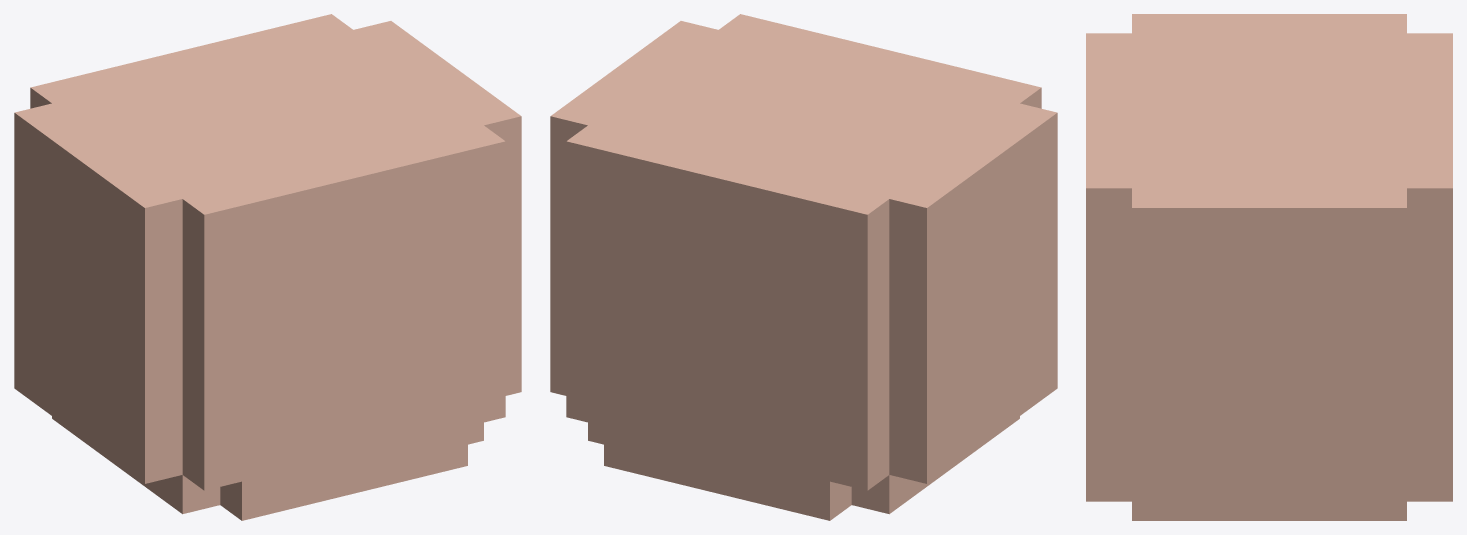
The model's file is Head1.fbx.
The picture shows the model from 3 angles, left to right: view 1: azimuth 30°, elevation 25°; view 2: azimuth 150°, elevation 25°; view 3: azimuth 270°, elevation 25°; orthographic projection. The views are drawn at different scales.
Parts seen in each view (by area): view 1: Head1; view 2: Head1; view 3: Head1.
Part boxes in pixels (bbox=[...]): Head1: bbox=[14, 14, 521, 520]; Head1: bbox=[550, 14, 1057, 520]; Head1: bbox=[1086, 14, 1452, 520].
Bounding box in the file's own units: 100 × 80 × 80.
